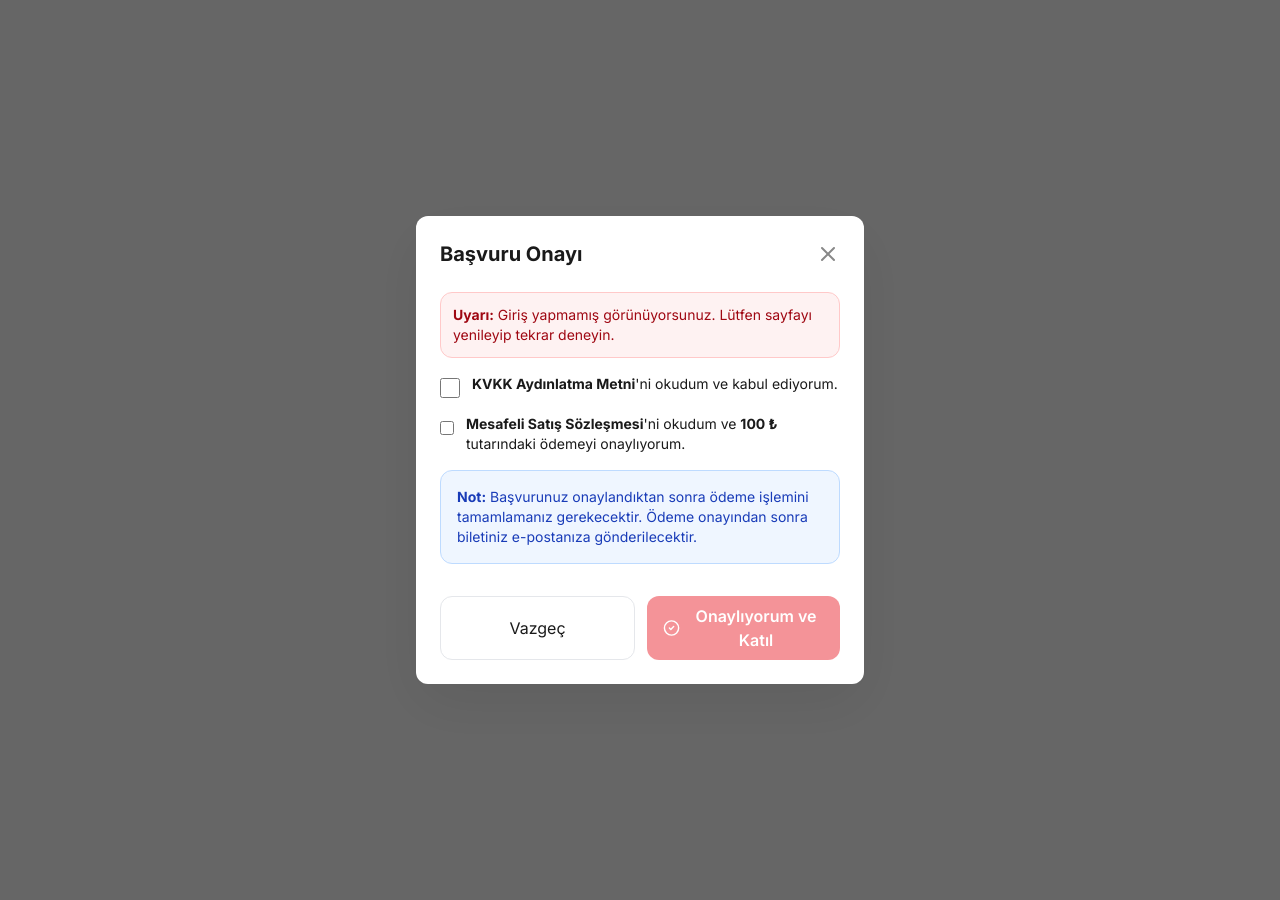
Test: BookingIntegration › enables submit button only after consents are checked
The width and height of the screenshot is (1280, 900).
Click the checkbox labelled "KVKK Aydınlatma Metni'ni okudum ve kabul ediyorum." at (450, 388), box [440,378,460,398]
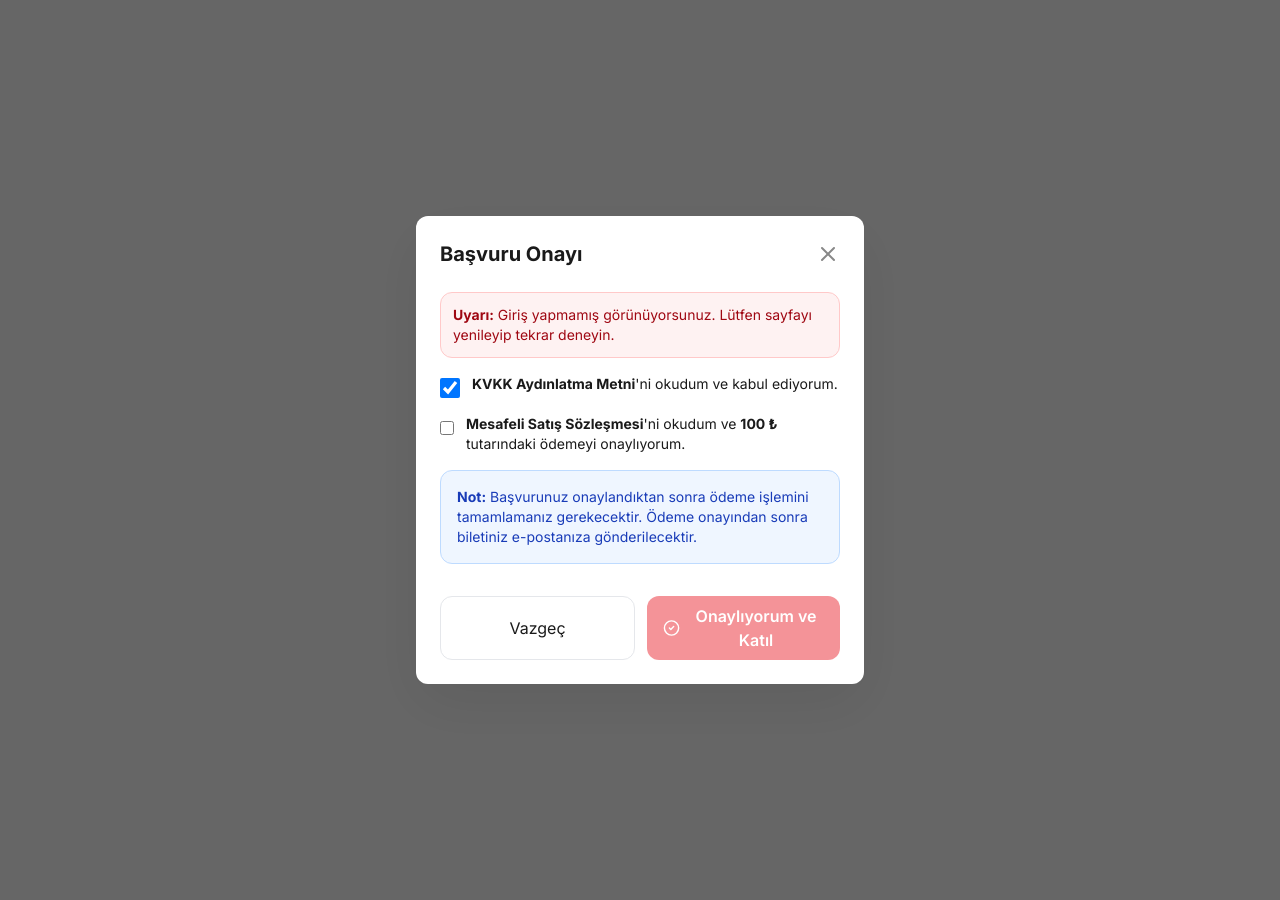
Expected: the button "Onaylıyorum ve Katıl" is disabled, [647,596,840,660]
Click the checkbox labelled "Mesafeli Satış Sözleşmesi" at (447, 428), box [440,418,454,438]
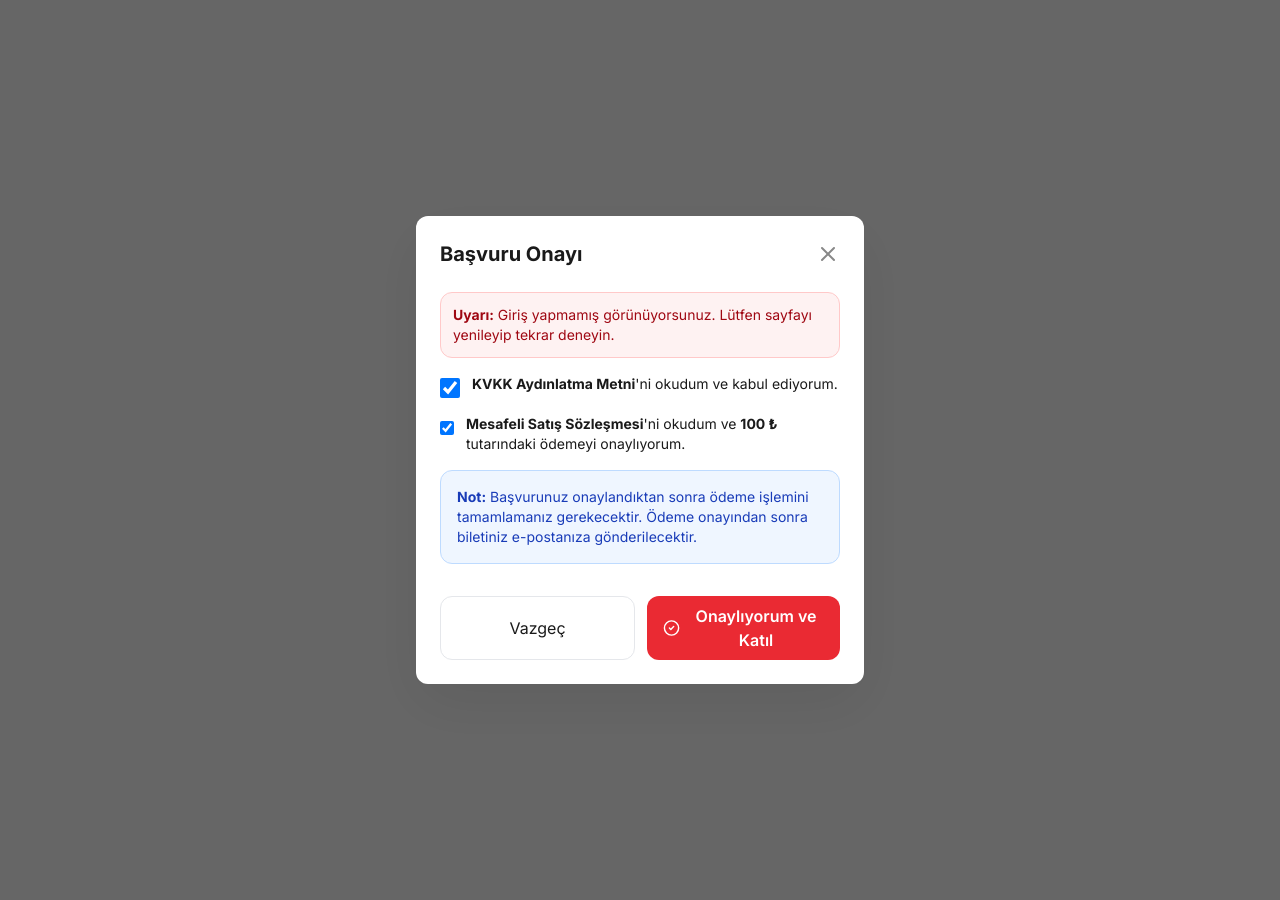
Now the button "Onaylıyorum ve Katıl" is enabled, box [647,596,840,660]
